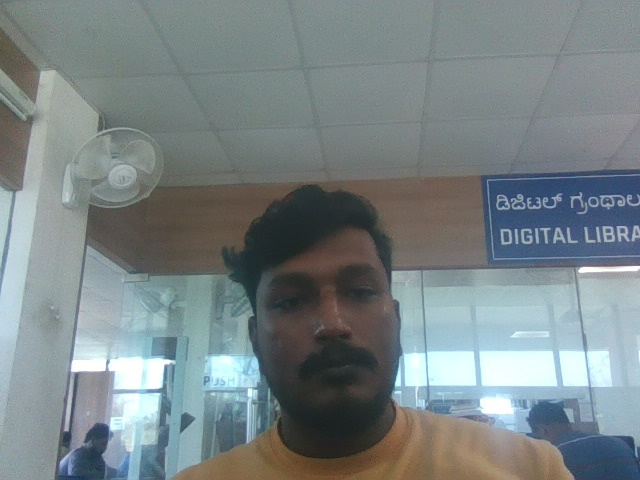real: (235, 171, 418, 431)
